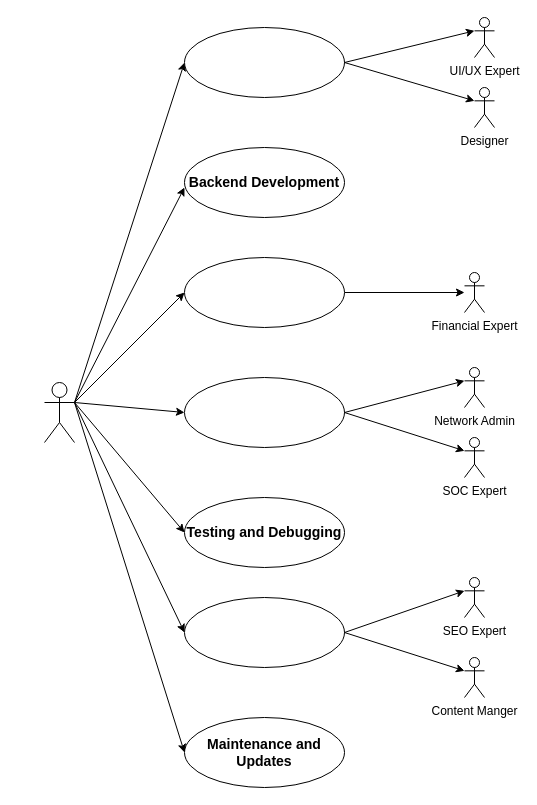
This 537x805 diagram has some shape labels left out. The centre of each missing label's shape, as x and y in pixels:
"E-commerce Platform Management" goes at (x=264, y=292).
"Frontend Development" goes at (x=264, y=62).
"Security and Performance" goes at (x=264, y=412).
"SEO and Analytics" goes at (x=264, y=632).
"WEB Developer" goes at (x=59, y=412).
